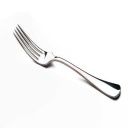Fork: (1, 20, 128, 108)
